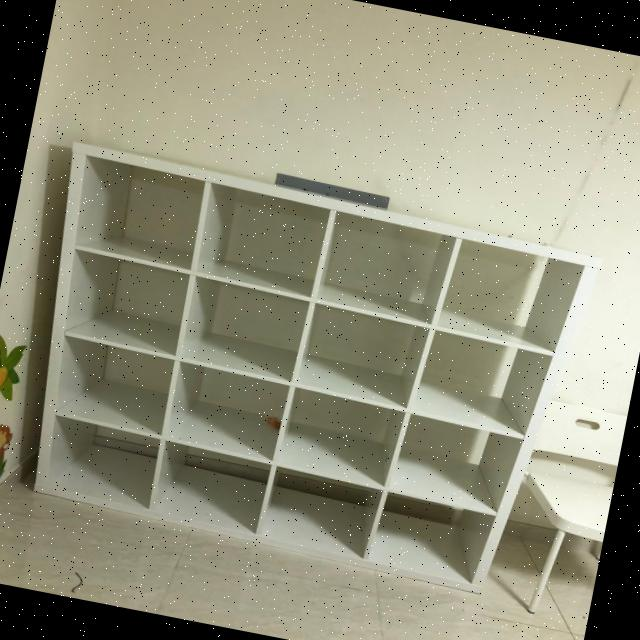Shelf: (0, 138, 611, 603)
